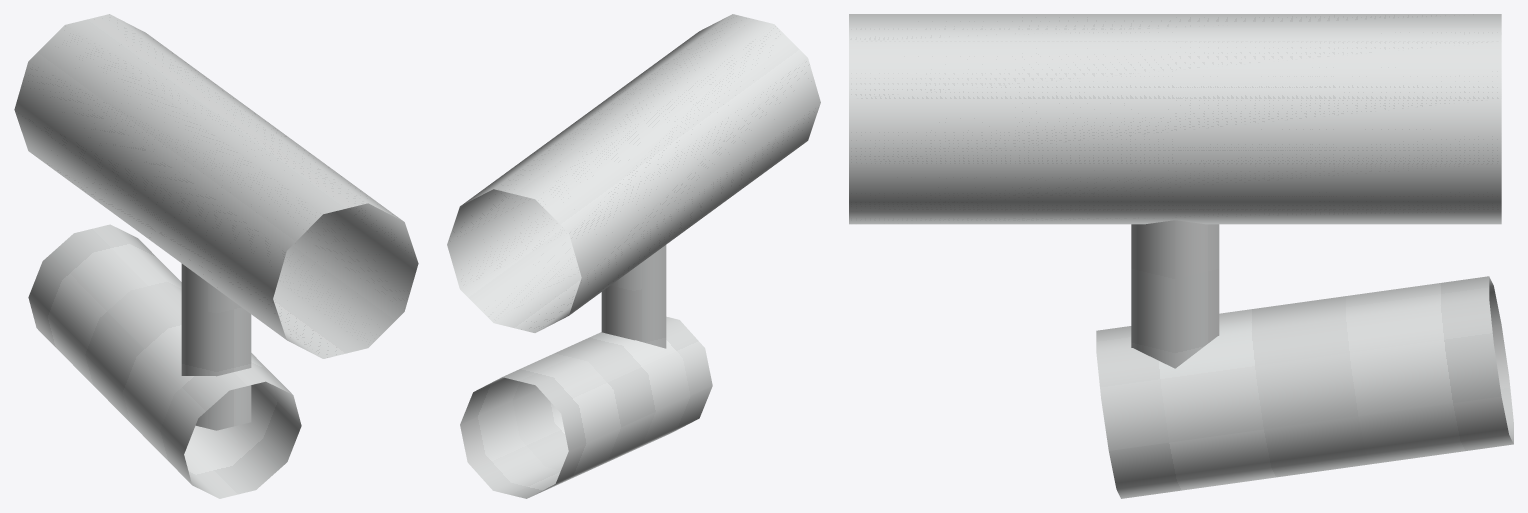
File: trusssignalarm_level8_c9.obj
3 renders of one model, left to right at view 1: azimuth 30°, elevation 25°; view 2: azimuth 150°, elevation 25°; view 3: azimuth 270°, elevation 25°, orthographic. The views are drawn at different scales.
Parts seen in each view (by area): view 1: trusssignalarm_level8_c9; view 2: trusssignalarm_level8_c9; view 3: trusssignalarm_level8_c9.
Boxes of the visible parts, left/top/right/bottom form: trusssignalarm_level8_c9: left=14, top=14, right=418, bottom=498; trusssignalarm_level8_c9: left=447, top=14, right=820, bottom=498; trusssignalarm_level8_c9: left=849, top=14, right=1513, bottom=498.
Bounding box in the file's own units: 0.325 × 0.7779 × 1.02.
